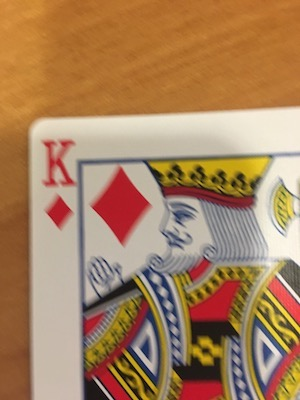KingOfDiamonds: (23, 106, 299, 400)
